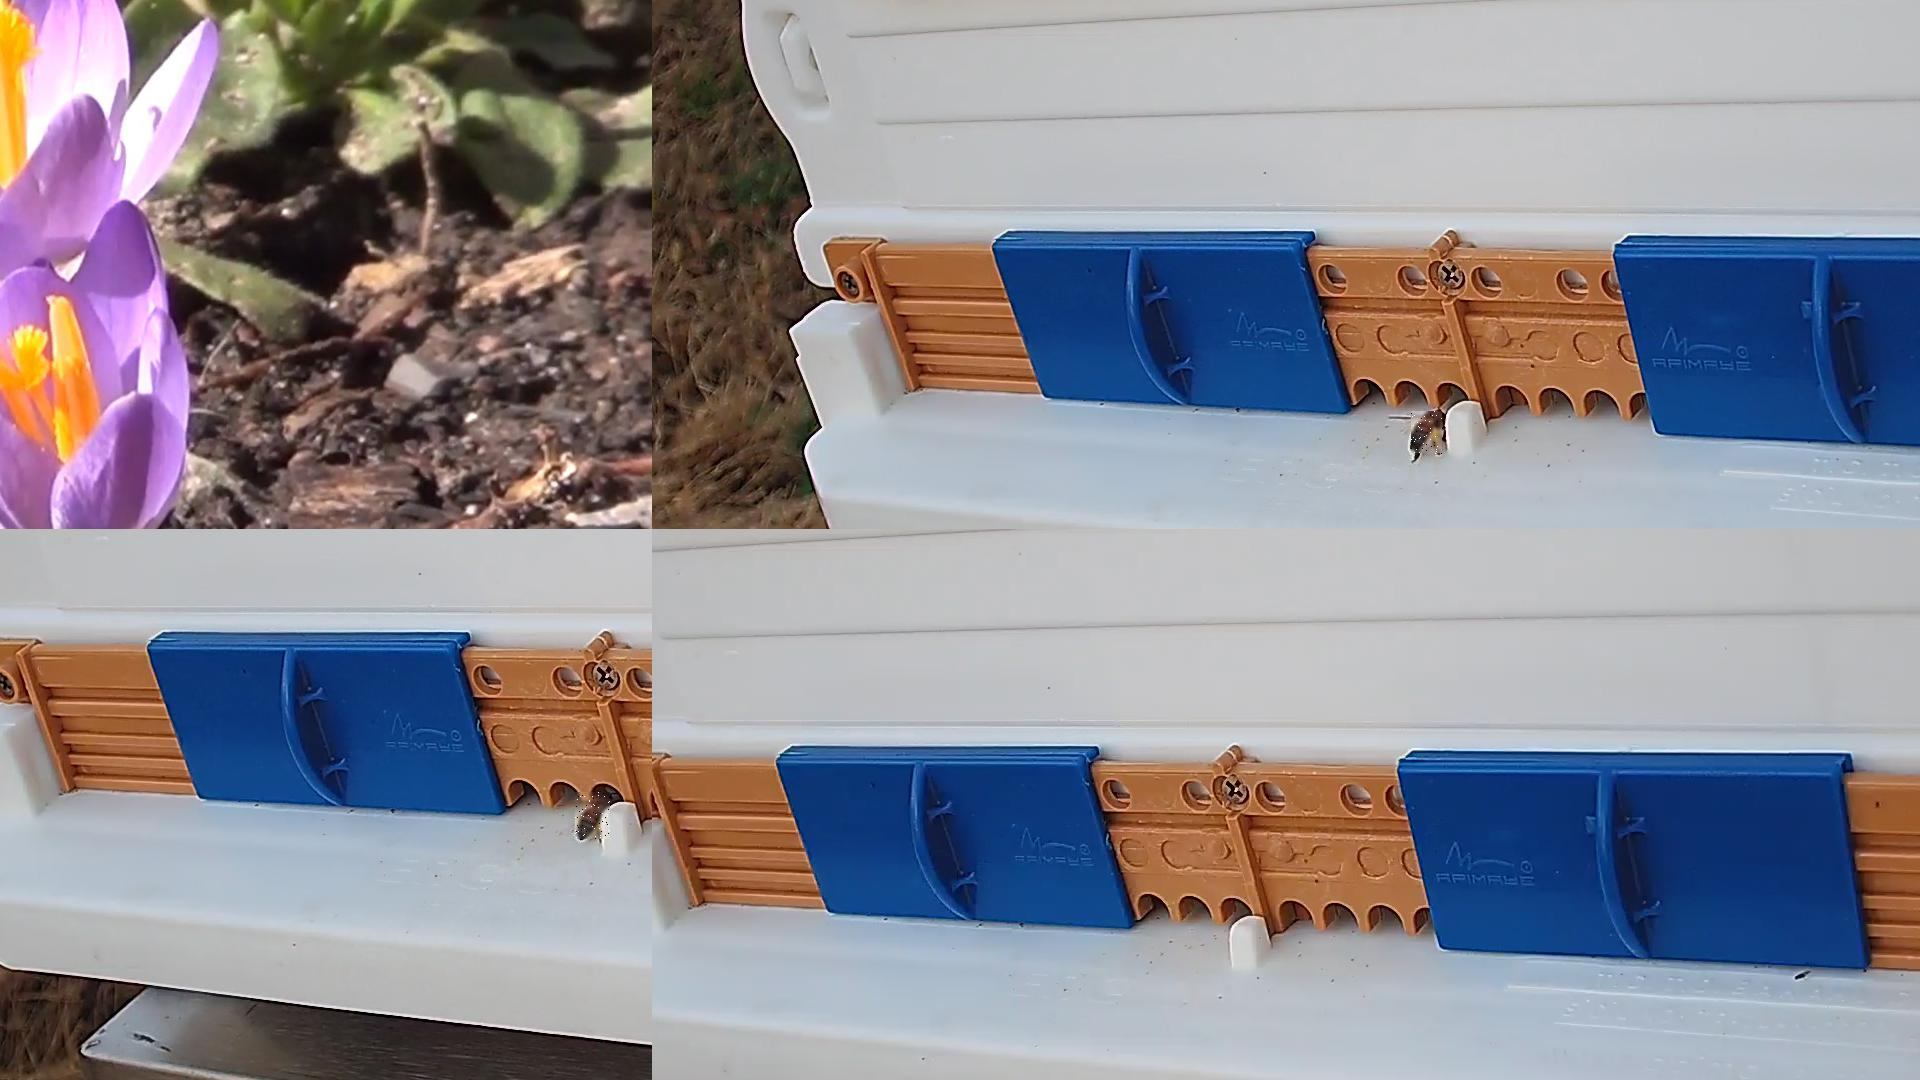pollenbee: (575, 793, 611, 840), (1411, 411, 1444, 456)
